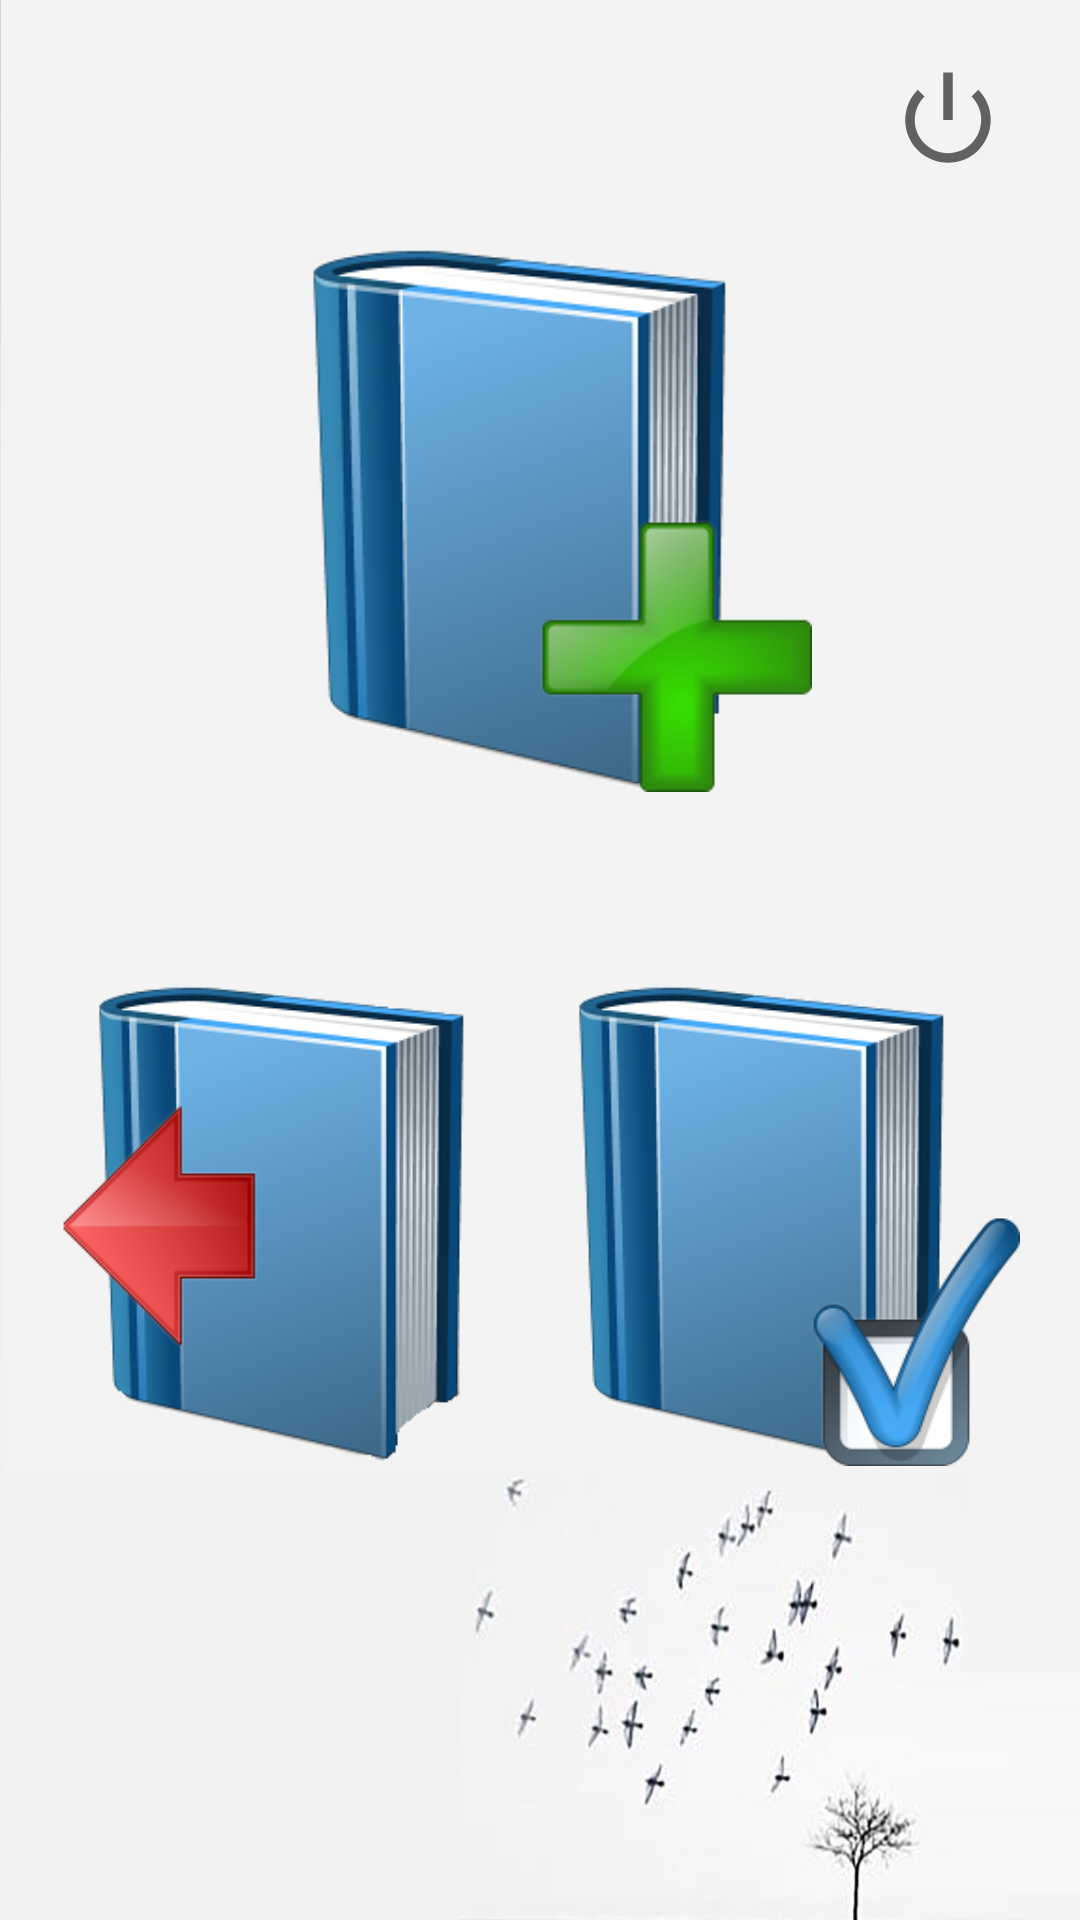

Icons on this 1080*1920 Android screen, each with its box as (x1, y1, x2, y2):
lock power off: (905, 72, 991, 163)
